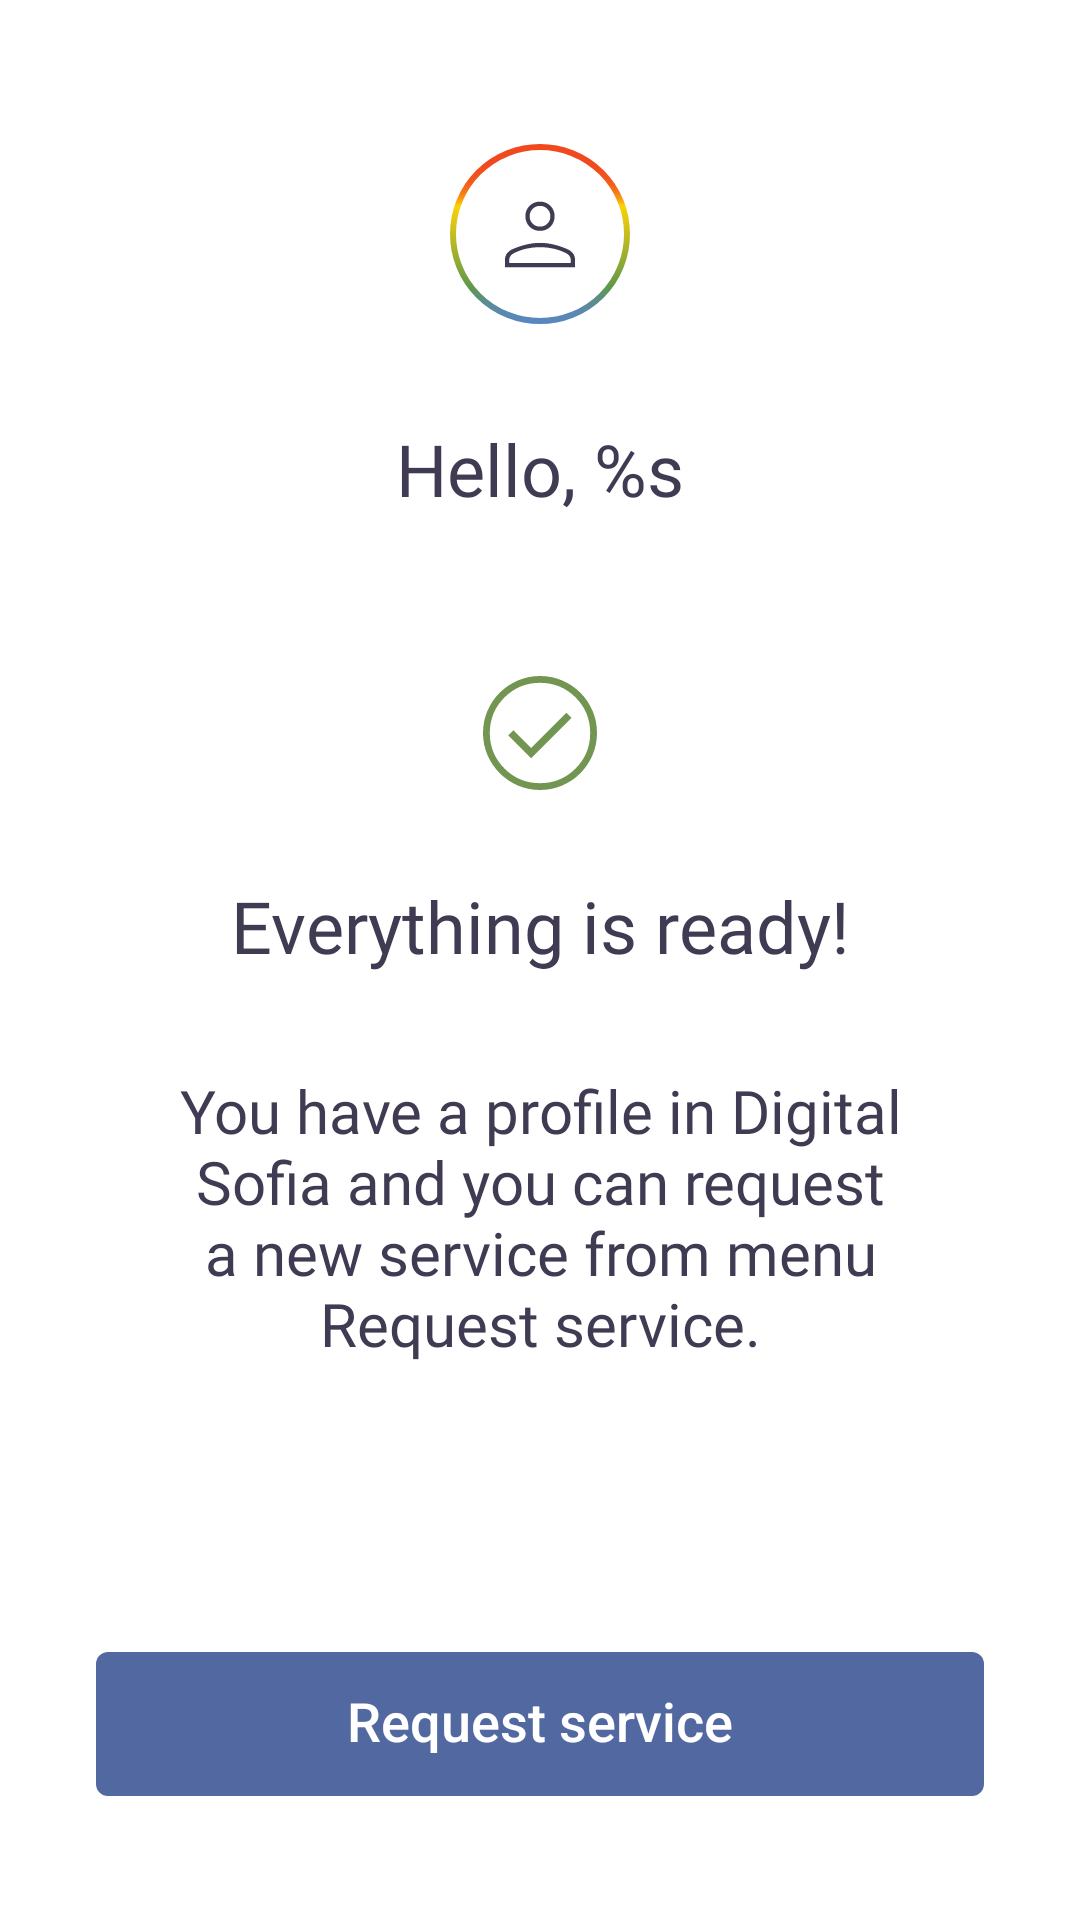

Where icons sit on this 1080px×1920px app screen, as [left=x1, top=y1, right=x2, bottom=y2]:
success: [left=483, top=676, right=597, bottom=790]
